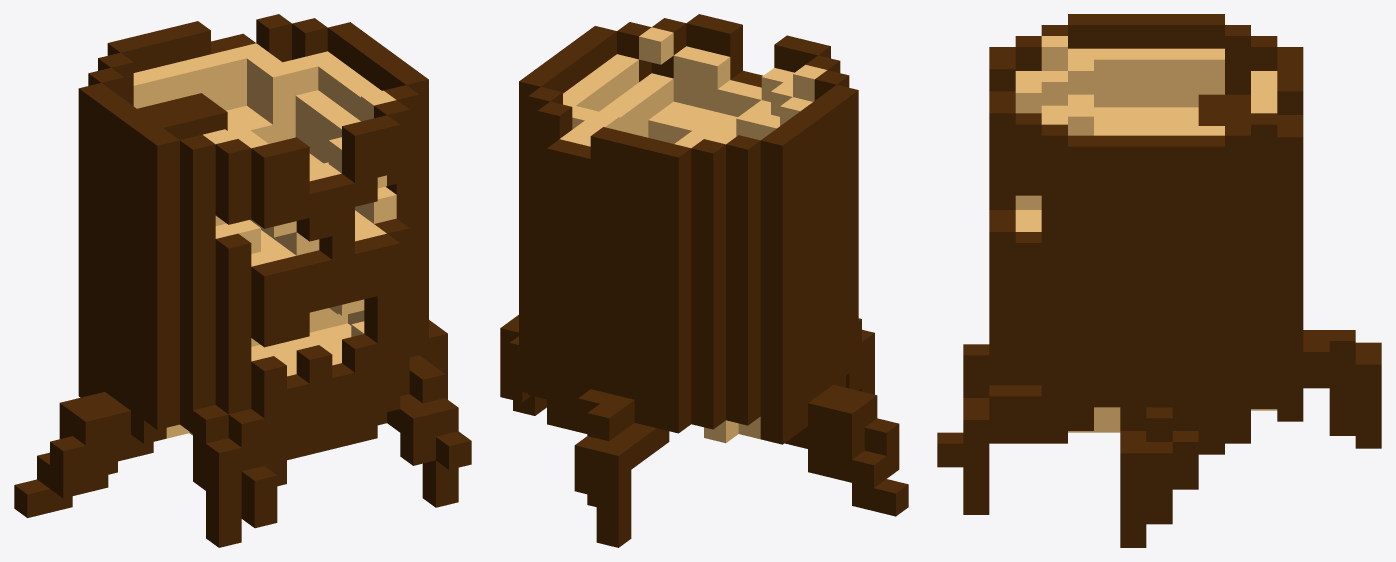
File: TreeStumpEnemy.obj
3 renders of one model, left to right at view 1: azimuth 30°, elevation 25°; view 2: azimuth 150°, elevation 25°; view 3: azimuth 270°, elevation 25°, orthographic. The views are drawn at different scales.
Visible parts, largest first — view 1: TreeStumpEnemy; view 2: TreeStumpEnemy; view 3: TreeStumpEnemy.
Part boxes in pixels (x1,y1,x2,y2): TreeStumpEnemy: [14, 14, 471, 547]; TreeStumpEnemy: [500, 14, 908, 547]; TreeStumpEnemy: [937, 14, 1381, 547].
Size of the model in its own units: 18 by 16 by 17.
1 material, 1 textured.
